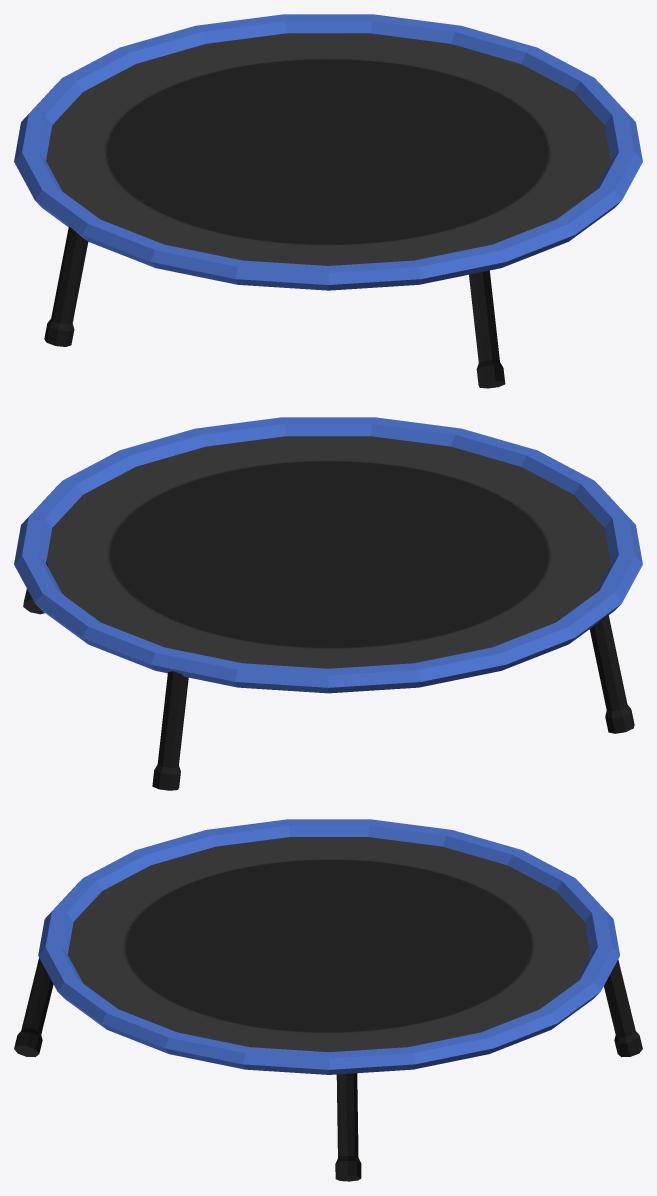
The model's file is Trampoline.obj.
3 renders of one model, top to bottom at view 1: azimuth 30°, elevation 25°; view 2: azimuth 150°, elevation 25°; view 3: azimuth 270°, elevation 25°, orthographic. The views are drawn at different scales.
Visible parts, largest first — view 1: Cylinder.002; view 2: Cylinder.002; view 3: Cylinder.002.
Part boxes in pixels (bbox=[...]): Cylinder.002: bbox=[14, 14, 642, 388]; Cylinder.002: bbox=[14, 417, 642, 790]; Cylinder.002: bbox=[14, 819, 642, 1181].
Size of the model in its own units: 7.18 by 1.46 by 7.2.
1 material, 1 textured.
